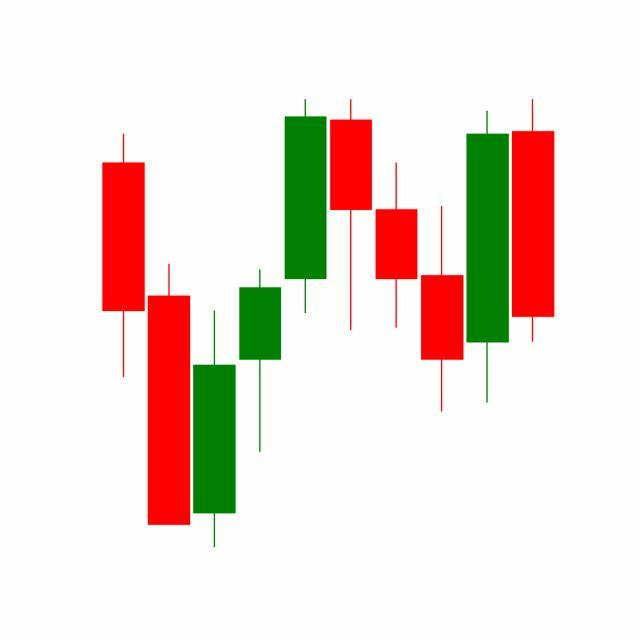Hikkake Pattern: (283, 100, 512, 417)
